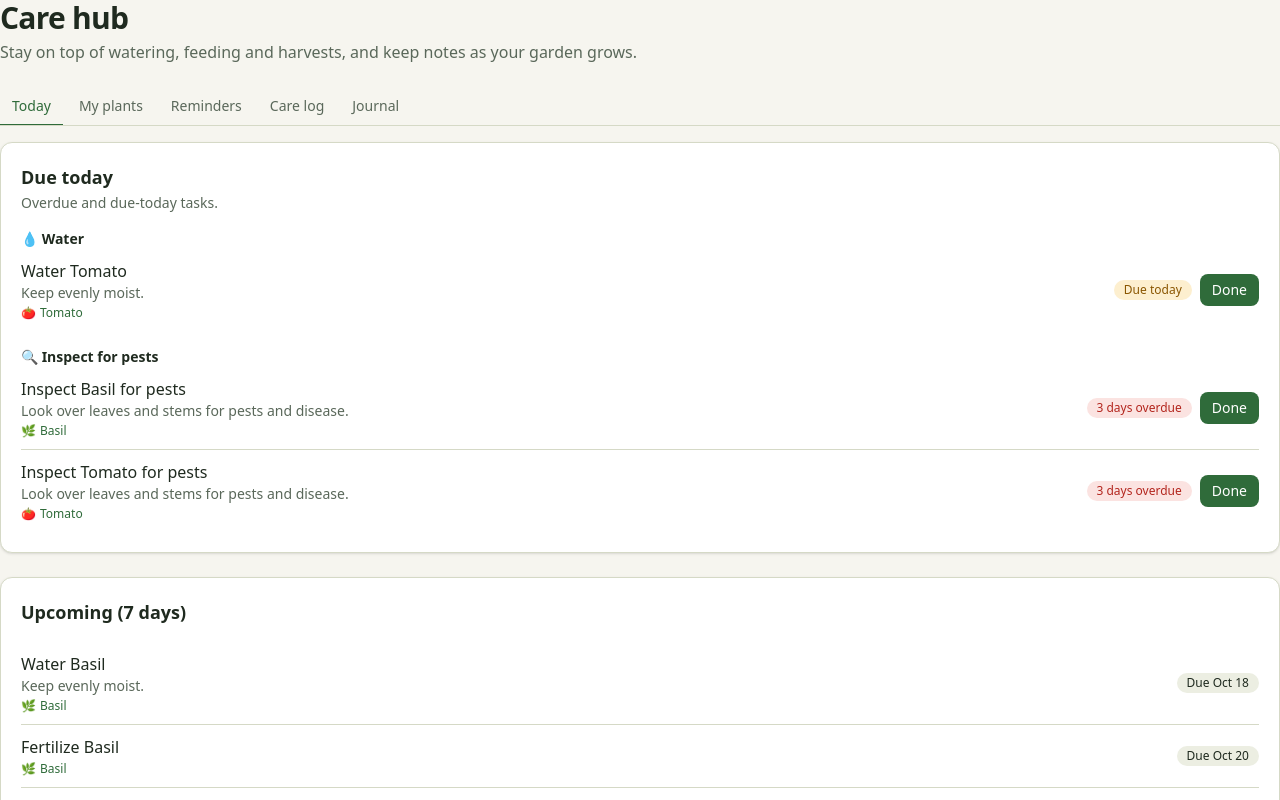
Test: CarePage › Care log › filters by plant
Click the tab "Care log" at (297, 107), box [258,88,336,126]
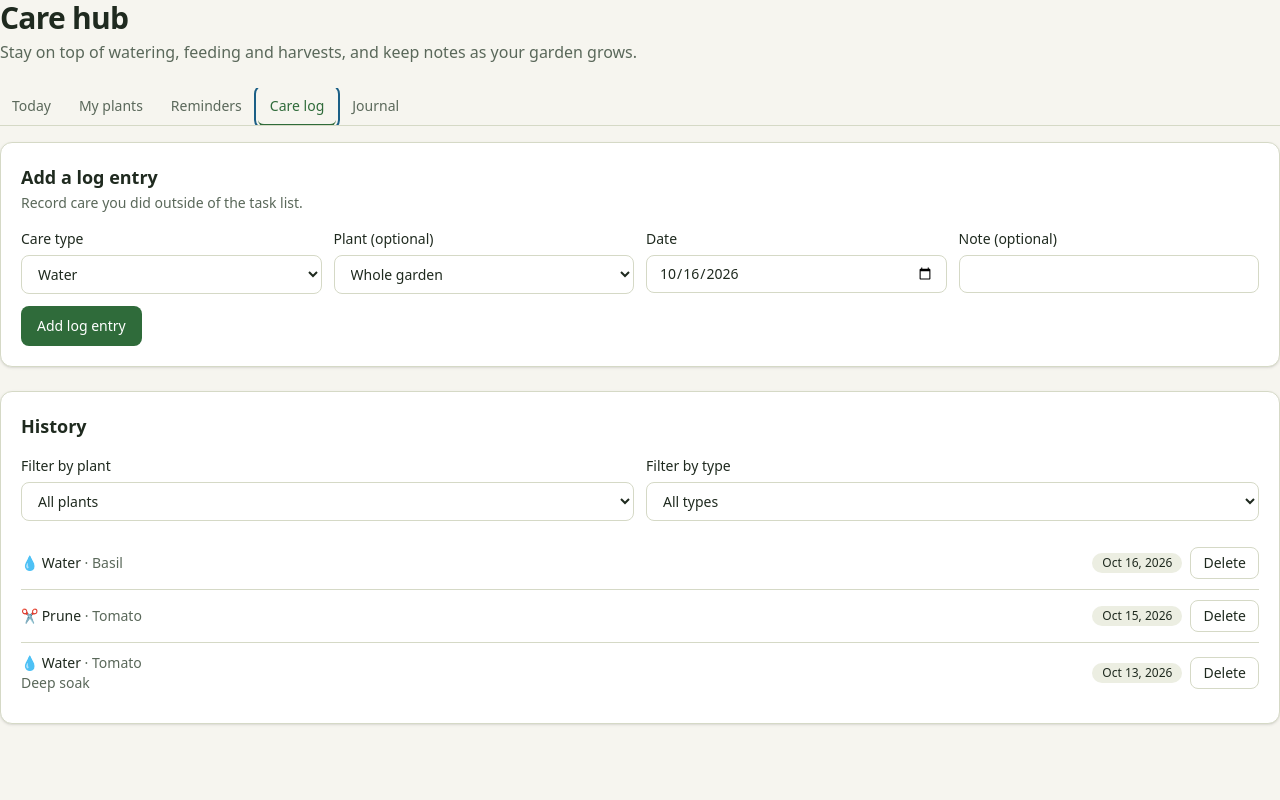
Select "Basil" in the dropdown labelled "Filter by plant" at (328, 502), box [21,482,634,521]
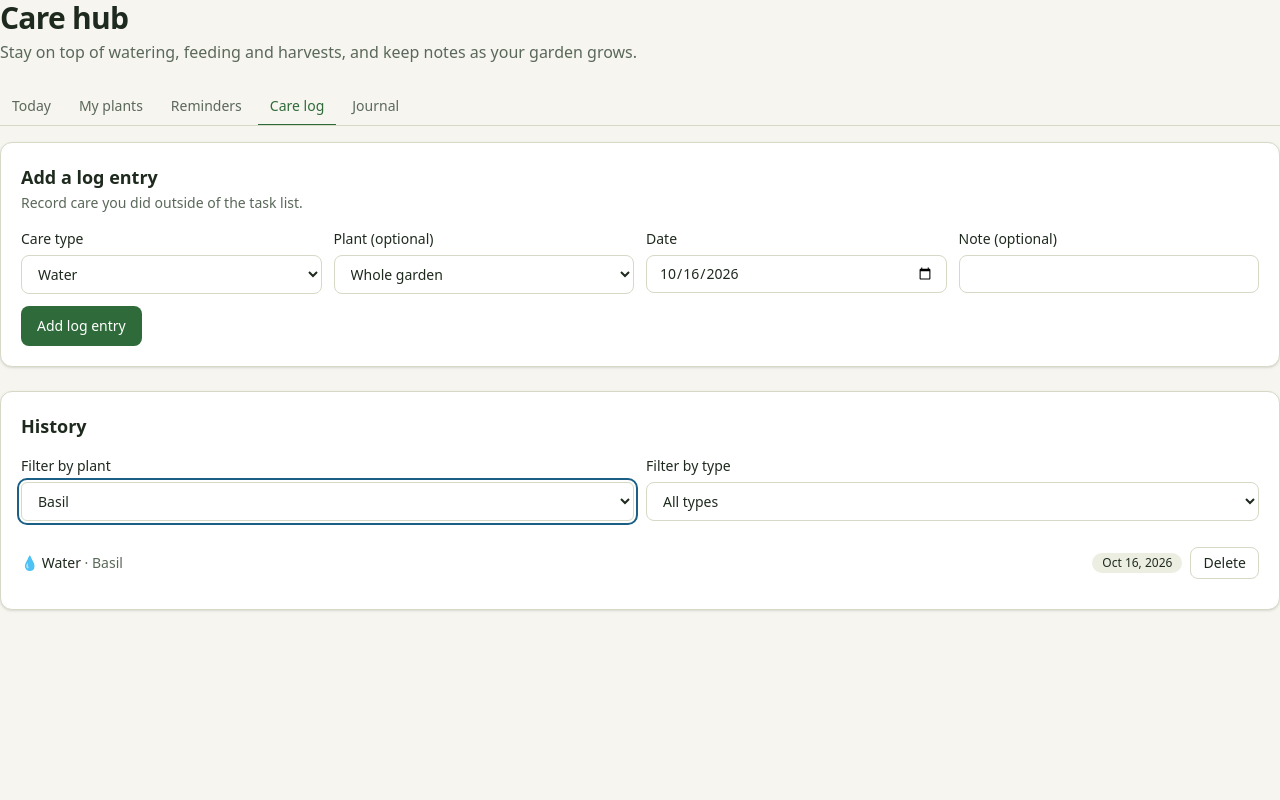
Result: the number of list items is 1 at [21,537,1259,589]
